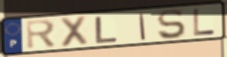I: (138, 12, 147, 41)
L: (94, 15, 120, 44), (192, 8, 216, 37)
R: (25, 18, 58, 51)
S: (156, 8, 187, 41)
X: (59, 15, 90, 49)
